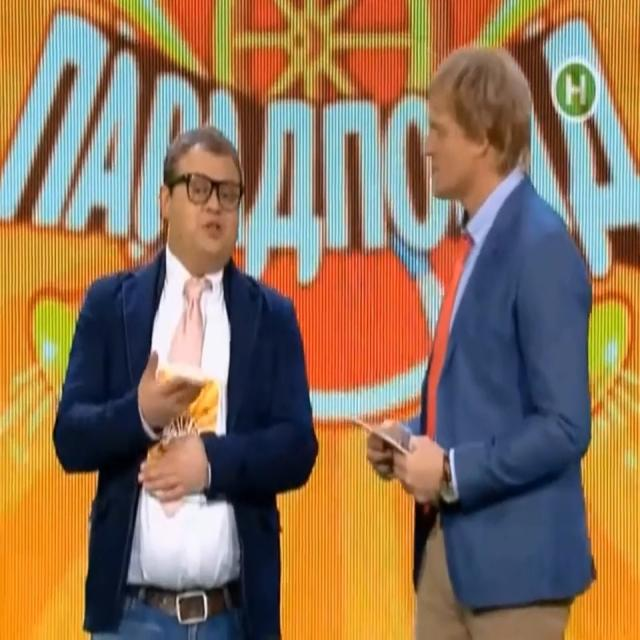shirt: (128, 242, 241, 591), (442, 164, 523, 342)
